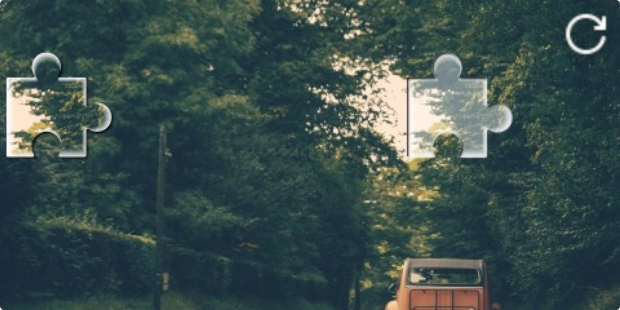target: (407, 52, 514, 158)
